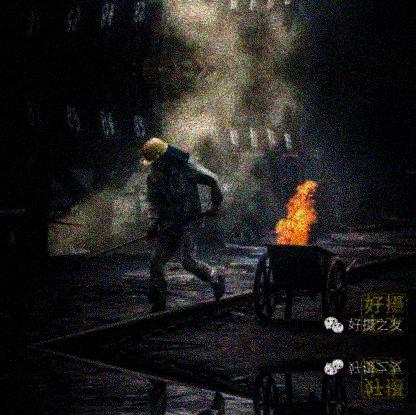helmet: (138, 137, 184, 173)
